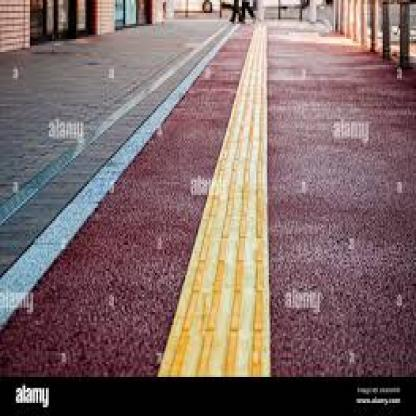podotacti: (157, 0, 286, 378)
